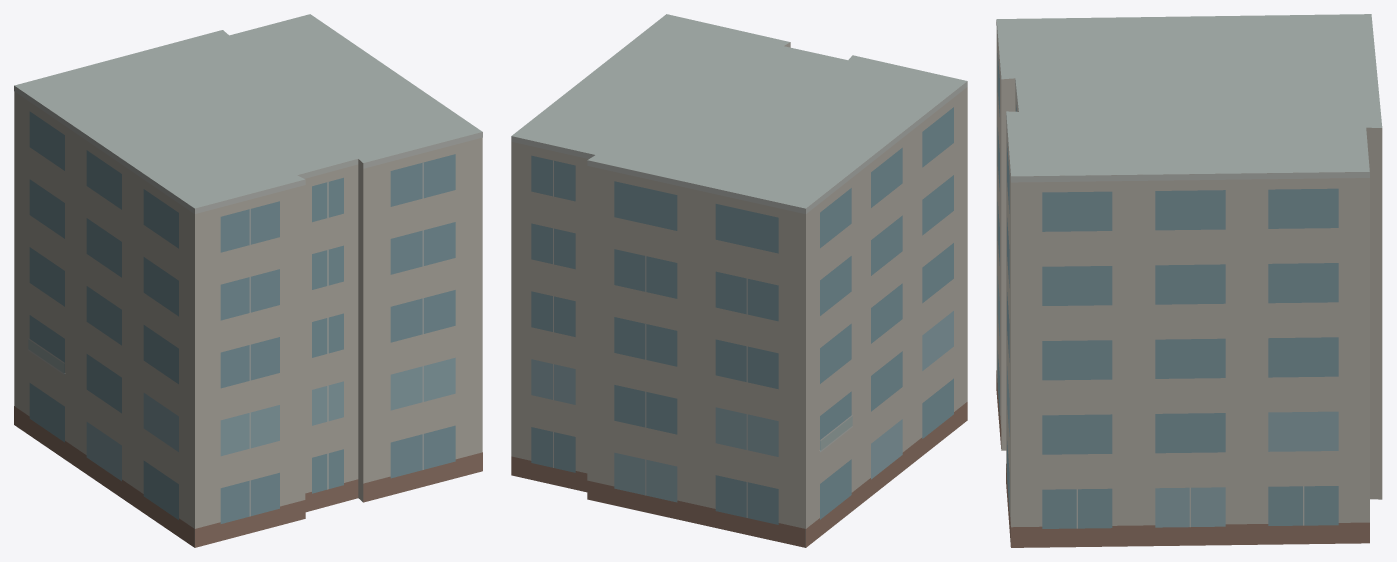
File: survey-upis-32736190.glb
3 renders of one model, left to right at view 1: azimuth 30°, elevation 25°; view 2: azimuth 150°, elevation 25°; view 3: azimuth 270°, elevation 25°, orthographic. The views are drawn at different scales.
Visible parts, largest first — view 1: survey-upis-32736190.tmp; view 2: survey-upis-32736190.tmp; view 3: survey-upis-32736190.tmp.
Part boxes in pixels (x1,y1,x2,y2): survey-upis-32736190.tmp: (14, 14, 482, 547); survey-upis-32736190.tmp: (511, 14, 967, 547); survey-upis-32736190.tmp: (996, 14, 1382, 547).
Bounding box in the file's own units: 13.79 × 14.7 × 13.85.
